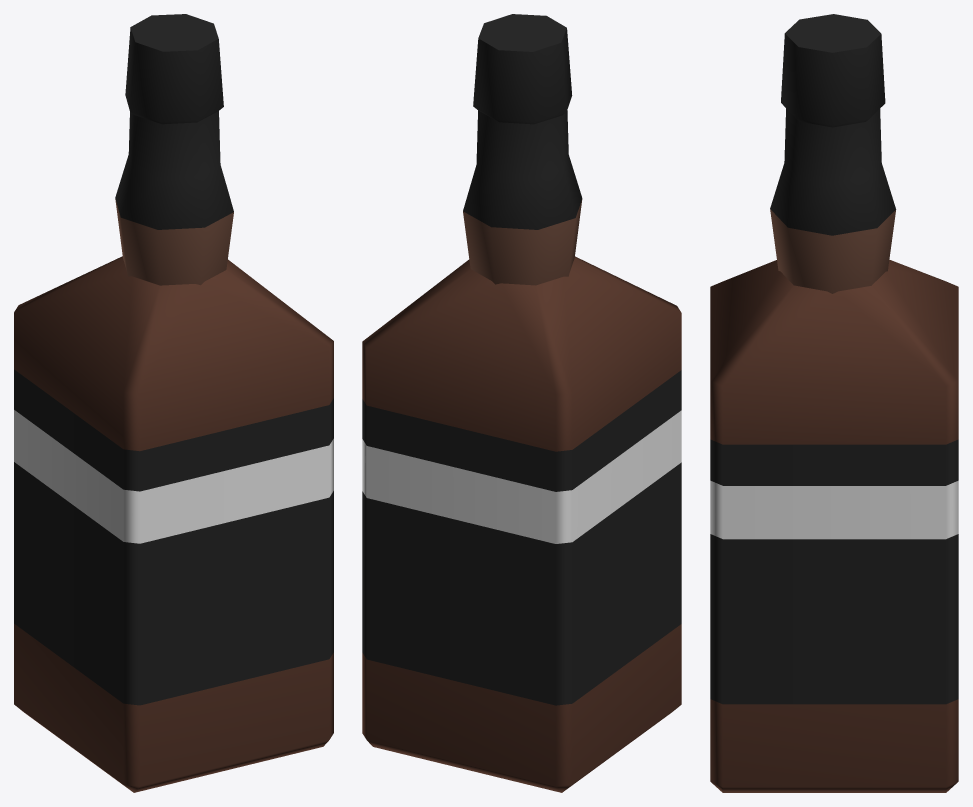
The model's file is prop_078.fbx.
The picture shows the model from 3 angles, left to right: view 1: azimuth 30°, elevation 25°; view 2: azimuth 150°, elevation 25°; view 3: azimuth 270°, elevation 25°; orthographic projection. The views are drawn at different scales.
Visible parts, largest first — view 1: prop_078; view 2: prop_078; view 3: prop_078.
Part boxes in pixels (x1=…): prop_078: x1=14, y1=14, x2=333, y2=792; prop_078: x1=362, y1=14, x2=681, y2=792; prop_078: x1=710, y1=14, x2=958, y2=792.
Bounding box in the file's own units: 13.5 × 13.5 × 42.75.
